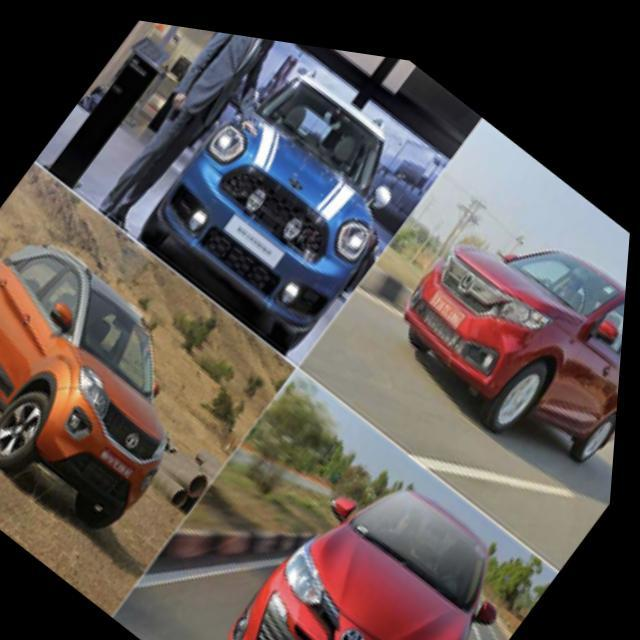license_plate: (416, 258, 488, 333), (228, 206, 284, 254), (96, 434, 146, 482), (283, 624, 384, 640)
